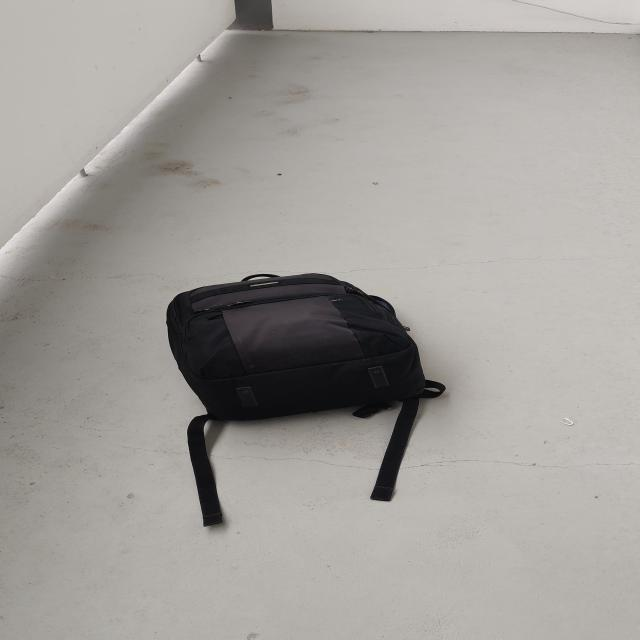backpack: (151, 267, 437, 431)
